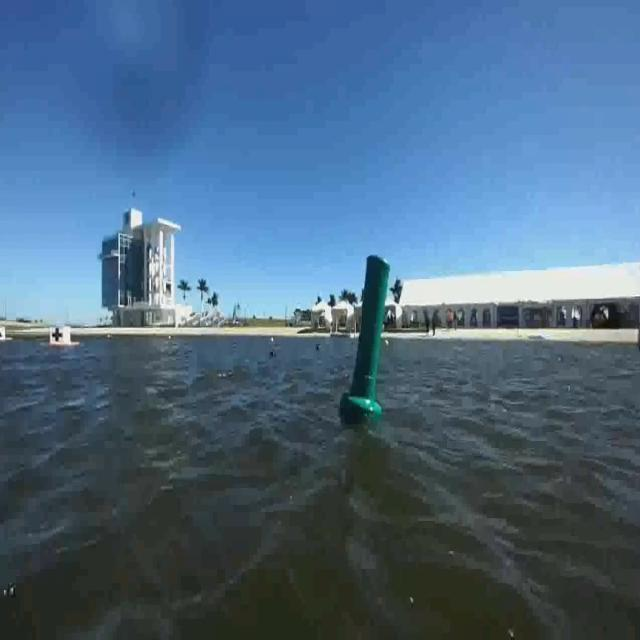green-column-buoy: (342, 254, 389, 422)
